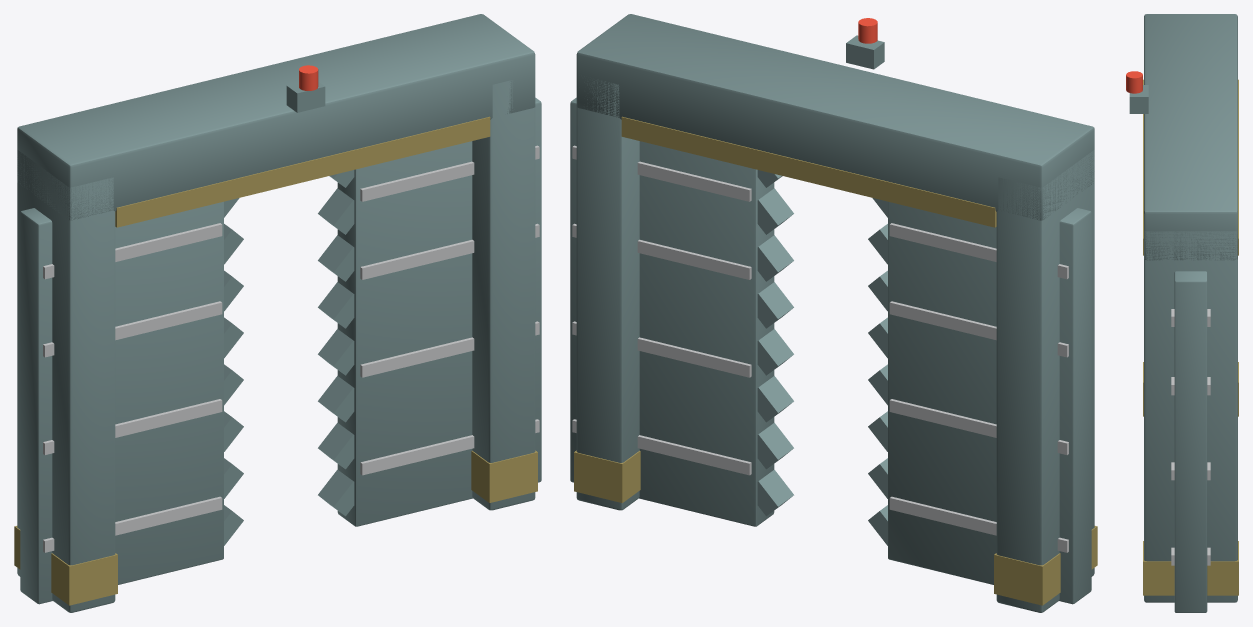
The model's file is blast_door.glb.
3 views of the same model, side by side, from view 1: azimuth 30°, elevation 25°; view 2: azimuth 150°, elevation 25°; view 3: azimuth 270°, elevation 25° (orthographic). The views are drawn at different scales.
Parts seen in each view (by area): view 1: blast_door; view 2: blast_door; view 3: blast_door.
Part boxes in pixels (x1=…): blast_door: x1=14, y1=14, x2=541, y2=612; blast_door: x1=570, y1=14, x2=1097, y2=612; blast_door: x1=1126, y1=14, x2=1238, y2=612.
Size of what is drawn, in the model's own units: 5.4 by 5.04 by 1.2.
